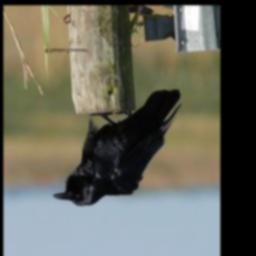Crow: (52, 87, 183, 207)
